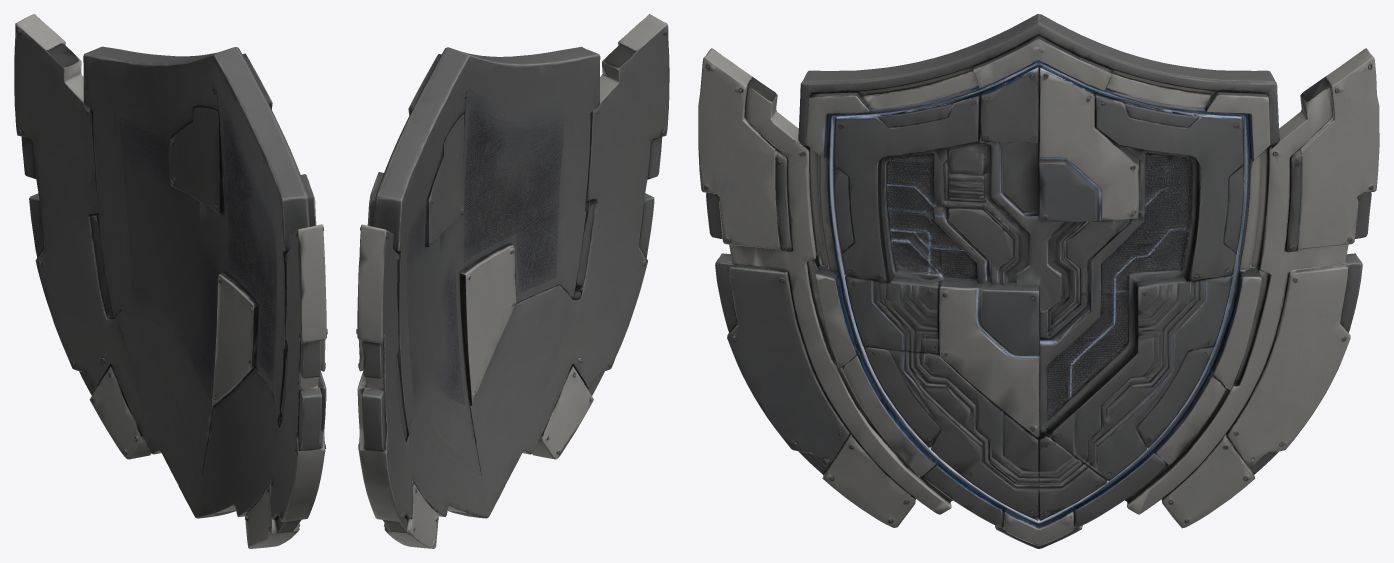
3 views of the same model, side by side, from view 1: azimuth 30°, elevation 25°; view 2: azimuth 150°, elevation 25°; view 3: azimuth 270°, elevation 25° (orthographic). The views are drawn at different scales.
Visible parts, largest first — view 1: tripo_node_94f5f3d7-042a-4b8f-9fc7-730dd93eb798; view 2: tripo_node_94f5f3d7-042a-4b8f-9fc7-730dd93eb798; view 3: tripo_node_94f5f3d7-042a-4b8f-9fc7-730dd93eb798.
Boxes of the visible parts, <box> form: tripo_node_94f5f3d7-042a-4b8f-9fc7-730dd93eb798: <box>14,14,327,548</box>; tripo_node_94f5f3d7-042a-4b8f-9fc7-730dd93eb798: <box>356,14,669,548</box>; tripo_node_94f5f3d7-042a-4b8f-9fc7-730dd93eb798: <box>698,14,1379,548</box>.
Size of the model in its own units: 0.193 by 0.8517 by 0.9795.
Materials: 1 (1 with a texture image).
